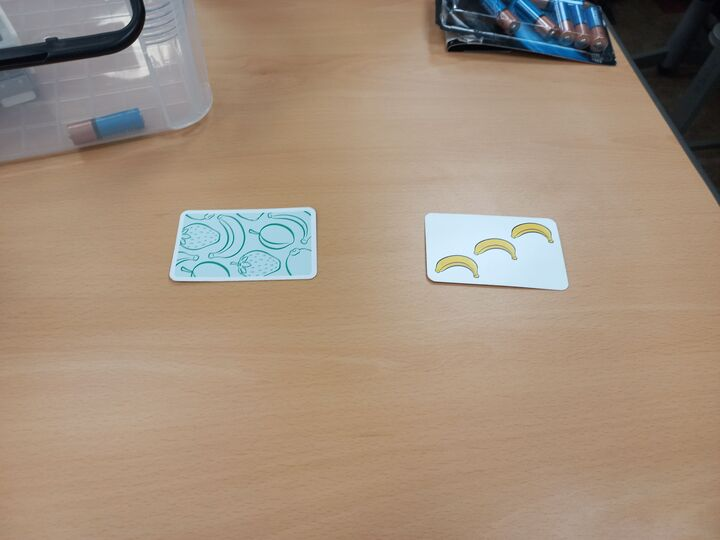banana3: (422, 211, 572, 293)
